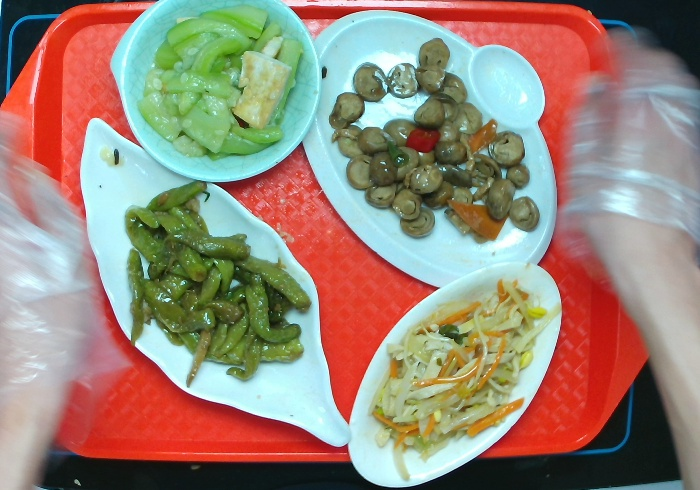RJxy-Bai_Se_Tuo_Yuan: (347, 257, 569, 487)
RJxy-Shu_Ye_Pan: (71, 110, 358, 456)
RJxy-Xiao_Jiao_Yuan_Wan: (103, 1, 325, 186)
RJxy-Zhan_Liao_Pan: (295, 6, 560, 292)
